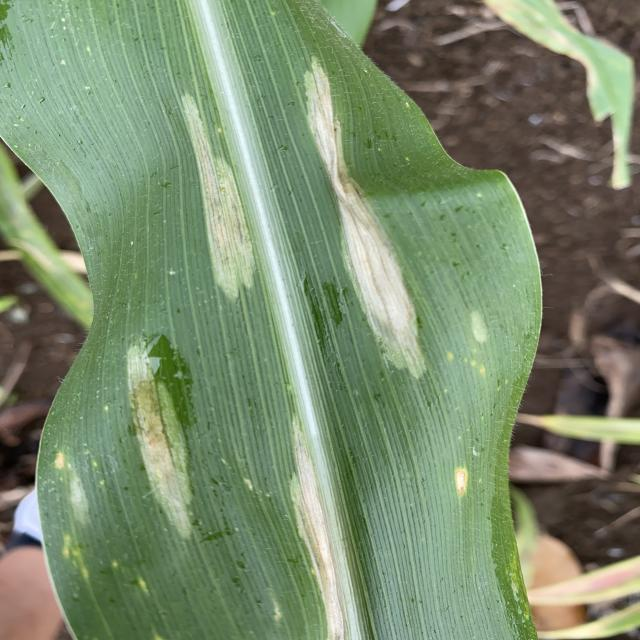Corn_Leaf_Blight: (39, 0, 540, 640)
